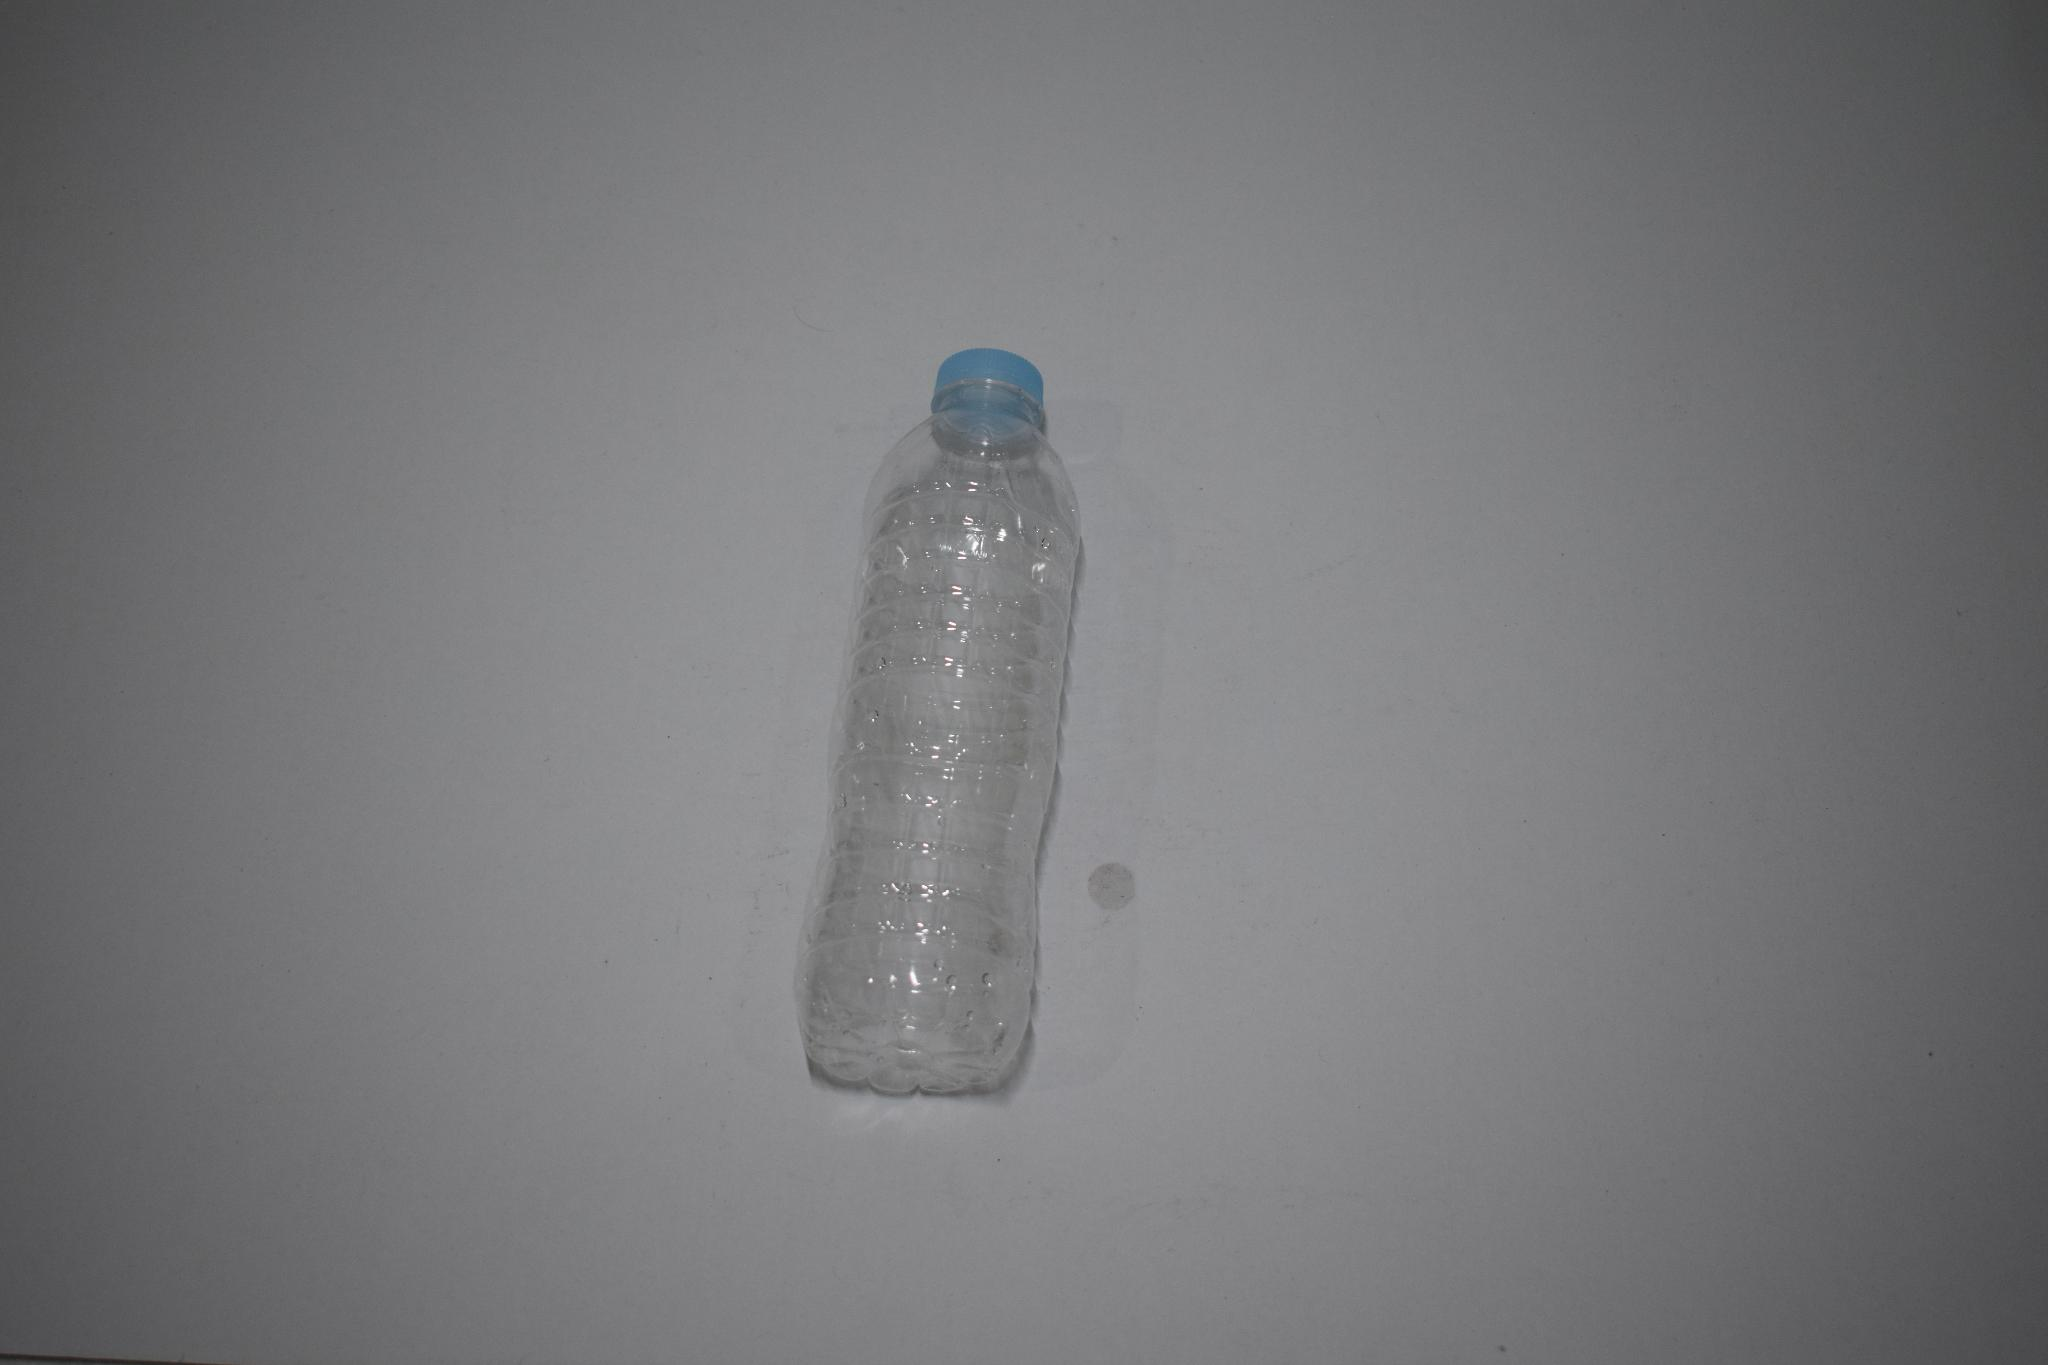bottle: (777, 328, 1128, 1111)
